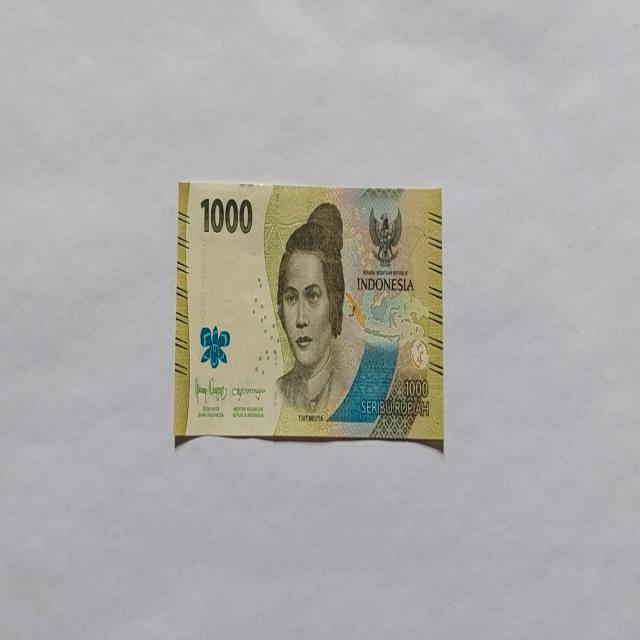seribu rupiah kertas: (174, 180, 444, 444)
